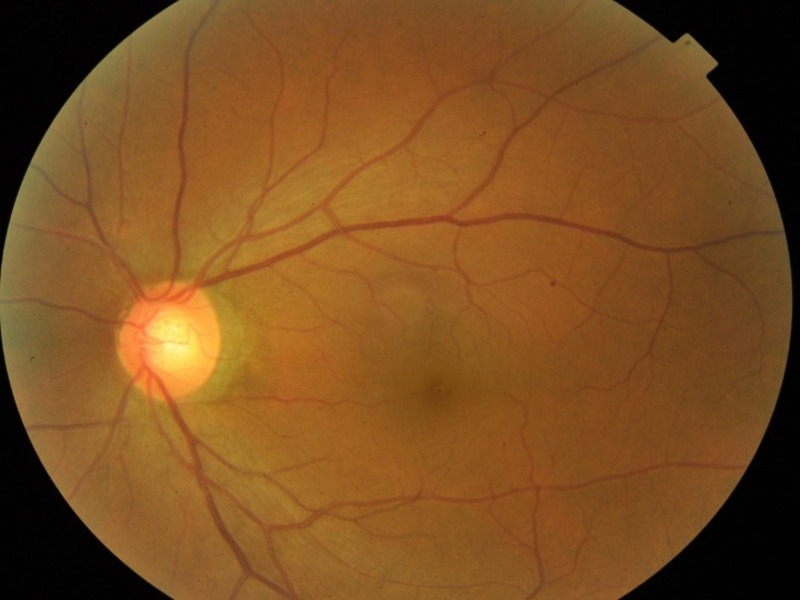Optic Cup: (151, 313, 193, 364)
Optic Disc: (119, 283, 222, 403)
